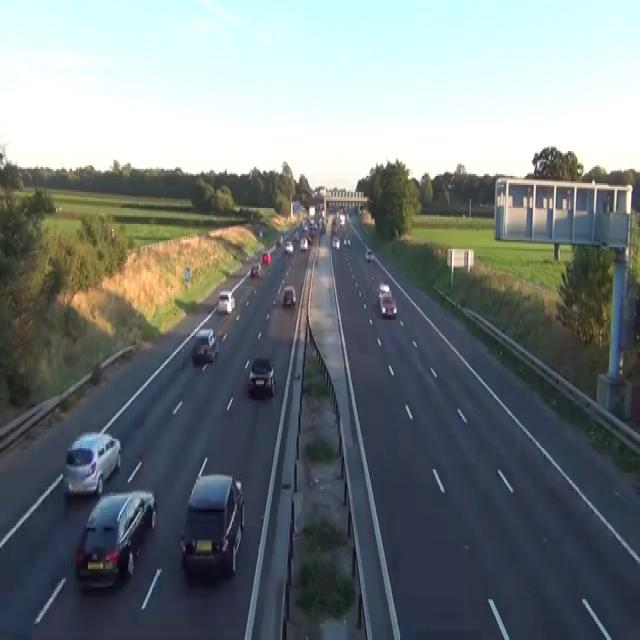Car: (75, 489, 157, 590), (180, 473, 244, 578), (62, 430, 121, 496), (247, 356, 275, 396), (192, 327, 218, 363), (379, 292, 397, 316), (217, 290, 235, 313), (282, 284, 296, 306), (250, 263, 262, 277), (379, 283, 391, 295), (262, 251, 271, 265), (331, 236, 340, 249), (365, 247, 373, 261), (284, 240, 293, 252), (300, 237, 308, 250), (331, 219, 338, 233), (339, 213, 345, 226), (343, 237, 350, 247), (55, 203, 62, 213), (293, 231, 299, 242), (275, 237, 282, 246), (309, 219, 315, 229), (320, 224, 326, 233), (302, 222, 308, 231), (446, 182, 454, 188), (307, 234, 312, 243), (280, 234, 284, 243), (245, 298, 249, 306), (272, 297, 276, 304), (259, 228, 262, 236), (180, 361, 183, 368)
